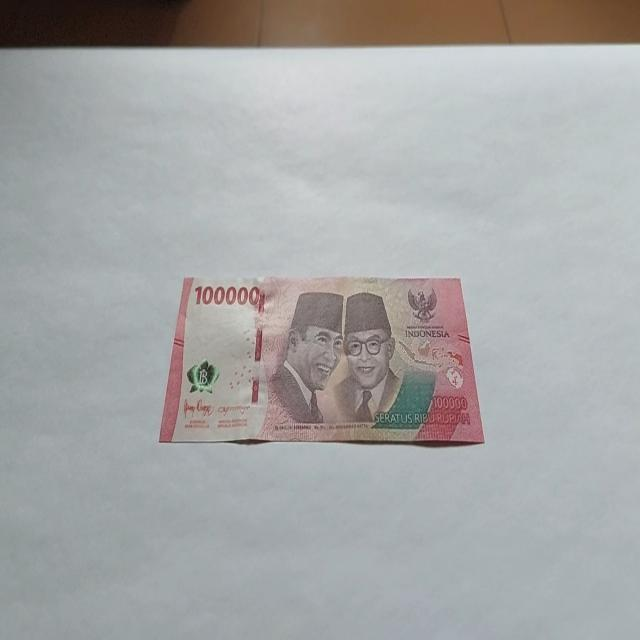seratus ribu rupiah: (158, 273, 484, 447), (270, 290, 344, 426)
